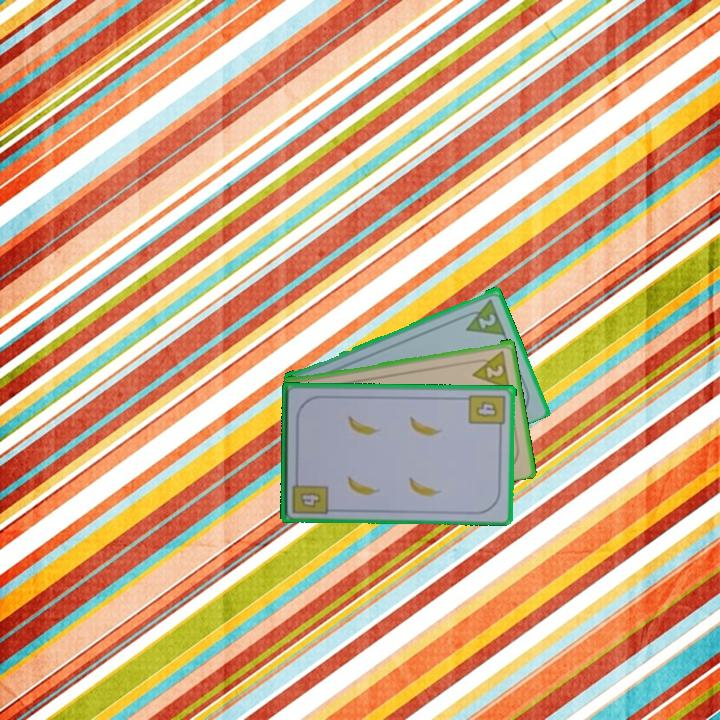2p: (458, 295, 508, 338), (467, 347, 512, 390)
4b: (466, 391, 508, 434), (297, 488, 324, 510)
